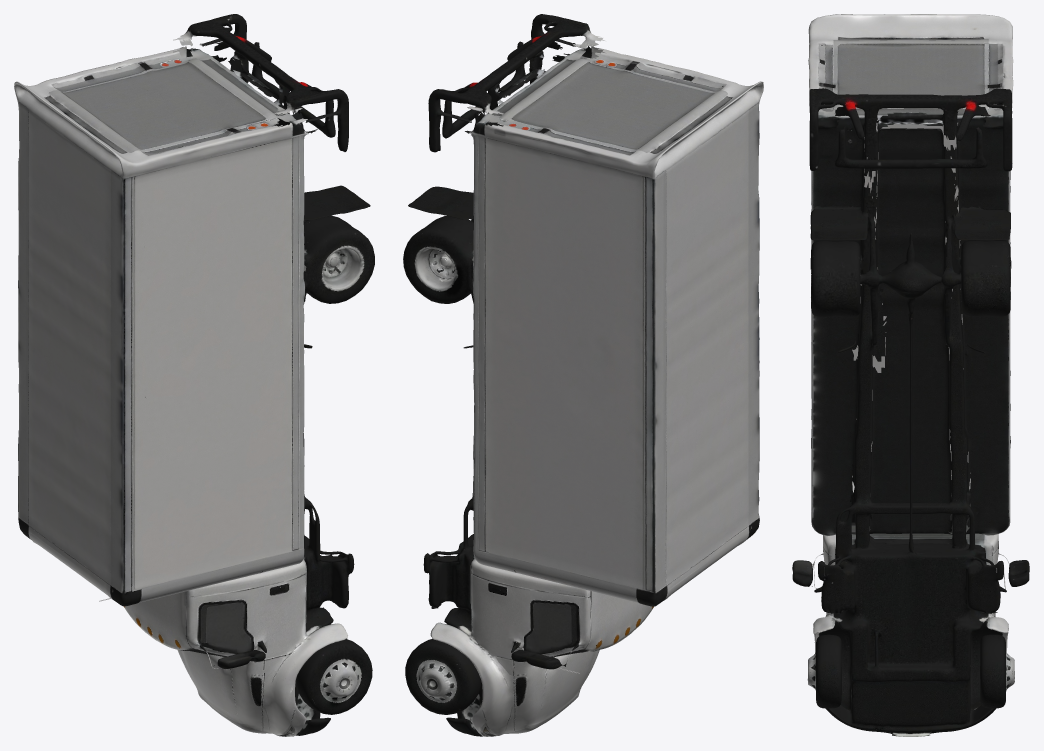
Rendered from box-truck.glb.
The picture shows the model from 3 angles, left to right: view 1: azimuth 30°, elevation 25°; view 2: azimuth 150°, elevation 25°; view 3: azimuth 270°, elevation 25°; orthographic projection. The views are drawn at different scales.
Visible parts, largest first — view 1: tripo_part_0, tripo_part_3, tripo_part_4, tripo_part_17, tripo_part_9, tripo_part_22, tripo_part_25, tripo_part_19, tripo_part_24, tripo_part_10, tripo_part_1; view 2: tripo_part_0, tripo_part_3, tripo_part_4, tripo_part_16, tripo_part_9, tripo_part_21, tripo_part_23, tripo_part_18, tripo_part_24, tripo_part_2; view 3: tripo_part_0, tripo_part_3, tripo_part_10, tripo_part_4, tripo_part_9, tripo_part_16, tripo_part_17, tripo_part_21, tripo_part_22, tripo_part_23, tripo_part_24, tripo_part_19 (+9 smaller).
Boxes of the visible parts, <box> form: tripo_part_0: <box>14,46,317,606</box>; tripo_part_3: <box>99,535,333,687</box>; tripo_part_4: <box>177,624,348,736</box>; tripo_part_17: <box>303,215,374,303</box>; tripo_part_9: <box>173,14,348,151</box>; tripo_part_22: <box>296,639,372,714</box>; tripo_part_25: <box>306,551,354,610</box>; tripo_part_19: <box>304,185,370,220</box>; tripo_part_24: <box>251,42,335,137</box>; tripo_part_10: <box>303,433,329,562</box>; tripo_part_1: <box>210,650,265,668</box>; tripo_part_0: <box>465,44,763,606</box>; tripo_part_3: <box>444,534,653,698</box>; tripo_part_4: <box>430,624,599,736</box>; tripo_part_16: <box>403,216,473,303</box>; tripo_part_9: <box>428,14,604,152</box>; tripo_part_21: <box>405,639,480,714</box>; tripo_part_23: <box>423,544,472,610</box>; tripo_part_18: <box>408,186,473,219</box>; tripo_part_24: <box>442,41,525,138</box>; tripo_part_2: <box>511,650,567,669</box>; tripo_part_0: <box>808,14,1013,536</box>; tripo_part_3: <box>814,492,1006,705</box>; tripo_part_10: <box>833,206,975,562</box>; tripo_part_4: <box>813,613,1008,736</box>; tripo_part_9: <box>809,88,1012,171</box>; tripo_part_16: <box>941,238,1011,316</box>; tripo_part_17: <box>810,241,871,317</box>; tripo_part_21: <box>980,634,1014,708</box>; tripo_part_22: <box>807,634,841,708</box>; tripo_part_23: <box>964,547,1003,613</box>; tripo_part_24: <box>835,126,987,168</box>; tripo_part_19: <box>810,205,868,240</box>.
Bounding box in the file's own units: 0.4118 × 0.9952 × 0.3413.
27 materials, 27 textured.
